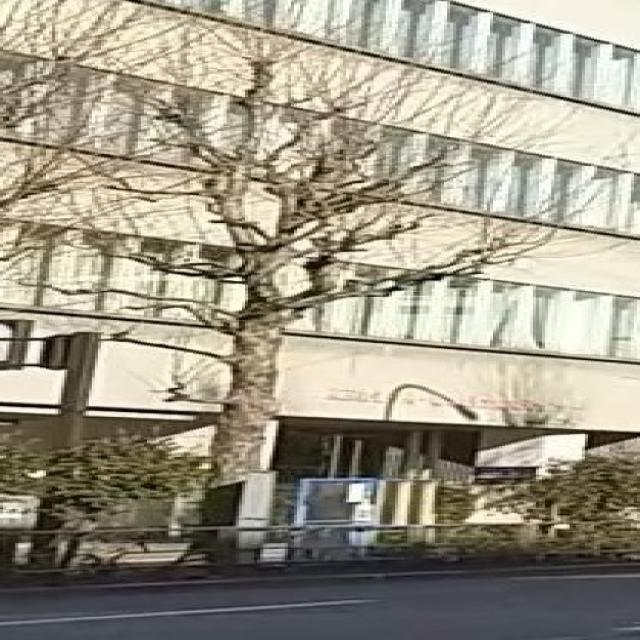maple: (0, 0, 640, 561)
